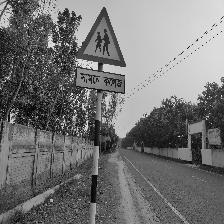College-in-front: (78, 20, 144, 101)
